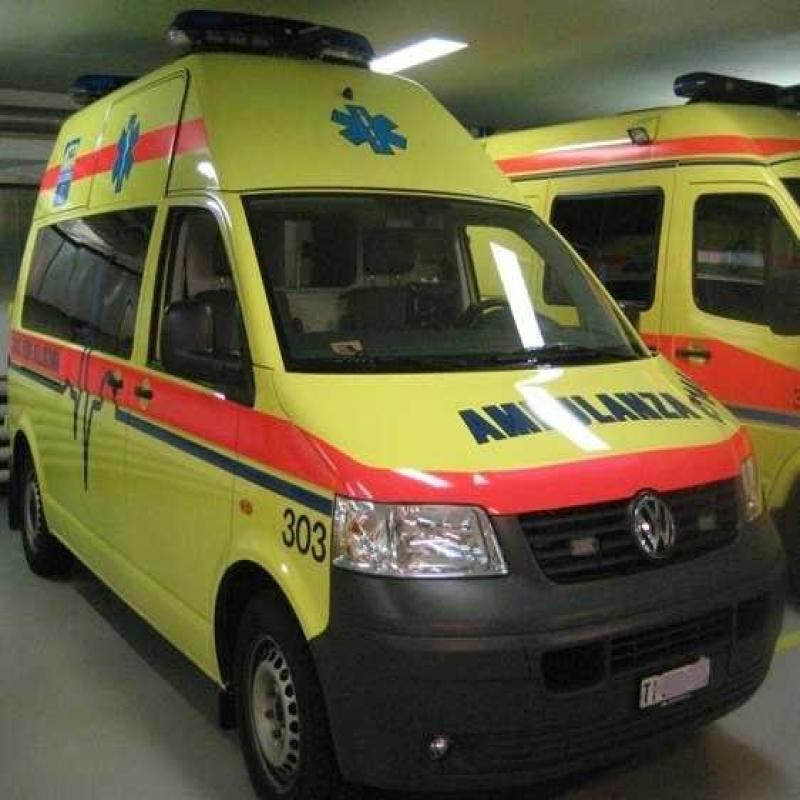AmbulanceSiren: (170, 0, 368, 87)
